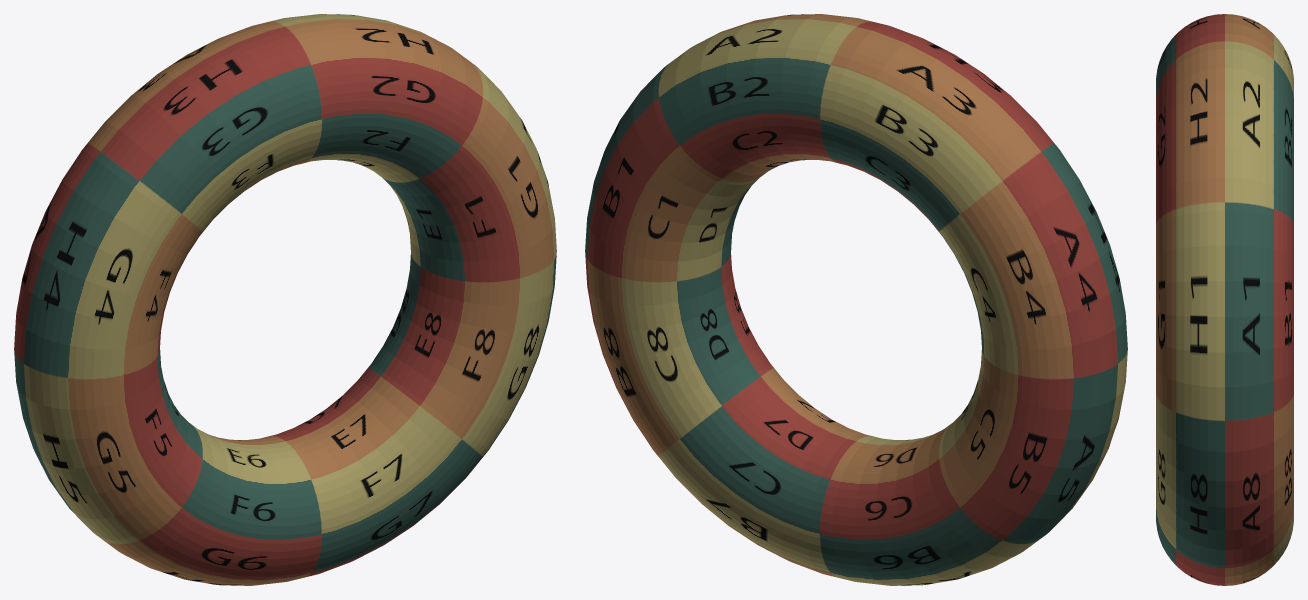
File: texture_torus_R12_r14.glb
3 views of the same model, side by side, from view 1: azimuth 30°, elevation 25°; view 2: azimuth 150°, elevation 25°; view 3: azimuth 270°, elevation 25° (orthographic). The views are drawn at different scales.
Parts seen in each view (by area): view 1: world; view 2: world; view 3: world.
Boxes of the visible parts, box(x1,y1,x2,y2) form: world: box(14, 14, 556, 585); world: box(585, 14, 1127, 585); world: box(1156, 14, 1293, 585).
Size of the model in its own units: 23.73 by 23.69 by 5.72.
1 material, 1 textured.
